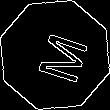M_W: (24, 25, 86, 85)
